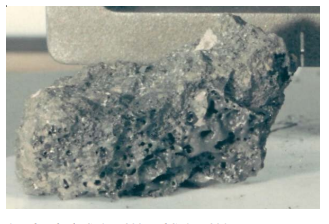Breccia: (11, 27, 313, 188)
